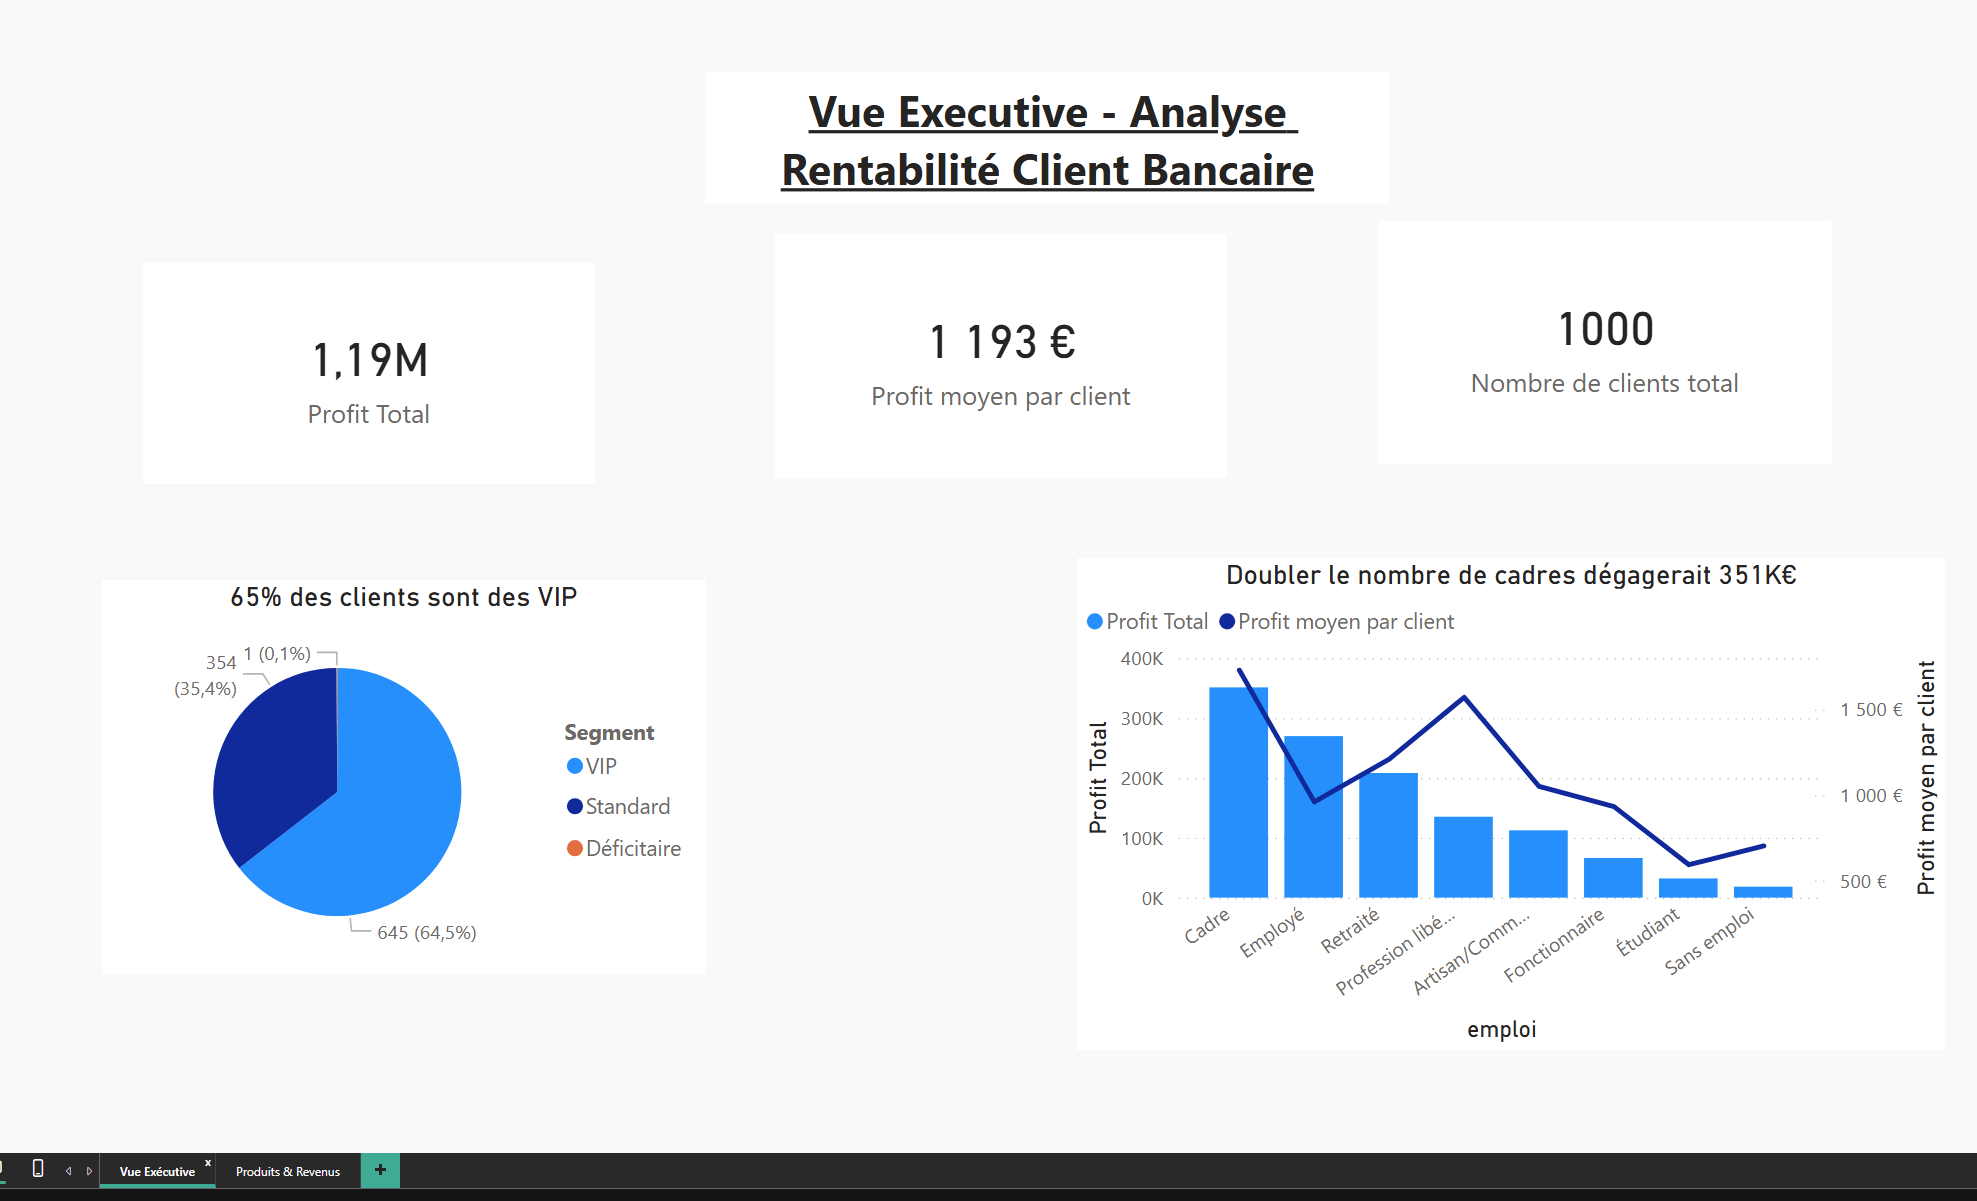

This screenshot's page, from the dashboard's own definition file:
{"tool":"powerbi","page":{"name":"Vue Exécutive","canvas":[1280,720],"ordinal":0},"visuals":[{"type":"card","title":"Profit Total","fields":{"Values":["Mesures.Profit Total"]},"box":[101.8,168.7,279.8,137.2],"z":0},{"type":"card","fields":{"Values":["Mesures.Profit moyen par client"]},"box":[493.4,150.6,279.8,150.6],"z":1000},{"type":"card","fields":{"Values":["Mesures.Nombre de clients total"]},"box":[866.9,142.6,281.2,150.6],"z":2000},{"type":"pieChart","title":"65% des clients sont des VIP","fields":{"Category":["recap_rentabilite.segment_calcule"],"Y":["Mesures.Nombre de clients total"]},"box":[76.3,364.9,373.6,243.7],"z":3000},{"type":"lineStackedColumnComboChart","title":"Doubler le nombre de cadres dégagerait 351K€","fields":{"Category":["clients.emploi"],"Y":["Mesures.Profit Total"],"Y2":["Mesures.Profit moyen par client"]},"box":[680.2,351.5,538.2,305.3],"z":4000},{"type":"textbox","box":[449.9,50.2,424.4,82.3],"z":5000}]}

Visuals, with their boxes on the page's 1280x720 design canvas (x1, y1, x2, y2). These are canvas units, not pixel positions in the 1977x1201 screenshot, which may show the page scaled, cropped or inside an application window:
"Profit Total" card: x1=102 y1=169 x2=382 y2=306
card - Mesures.Profit moyen par client: x1=493 y1=151 x2=773 y2=301
card - Mesures.Nombre de clients total: x1=867 y1=143 x2=1148 y2=293
"65% des clients sont des VIP" pieChart: x1=76 y1=365 x2=450 y2=609
"Doubler le nombre de cadres dégagerait 351K€" lineStackedColumnComboChart: x1=680 y1=352 x2=1218 y2=657
textbox: x1=450 y1=50 x2=874 y2=132
